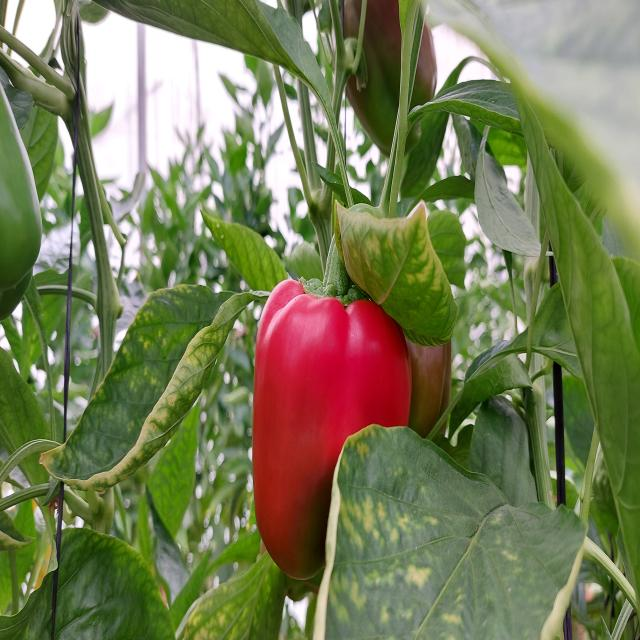Red-Ready-to-Harvest: (253, 263, 420, 587)
